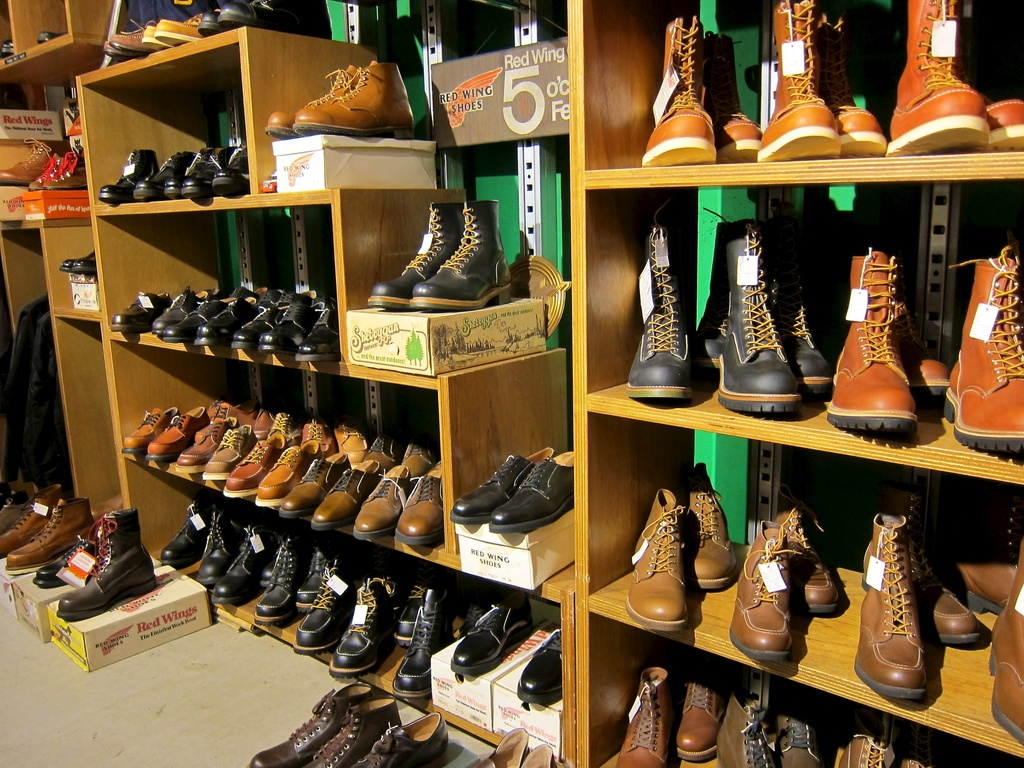person: (183, 387, 281, 487)
